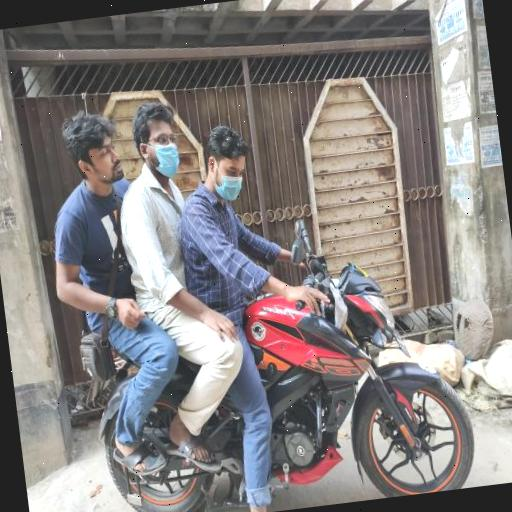no helmet: (194, 108, 266, 234)
triple riding: (29, 51, 484, 512)
